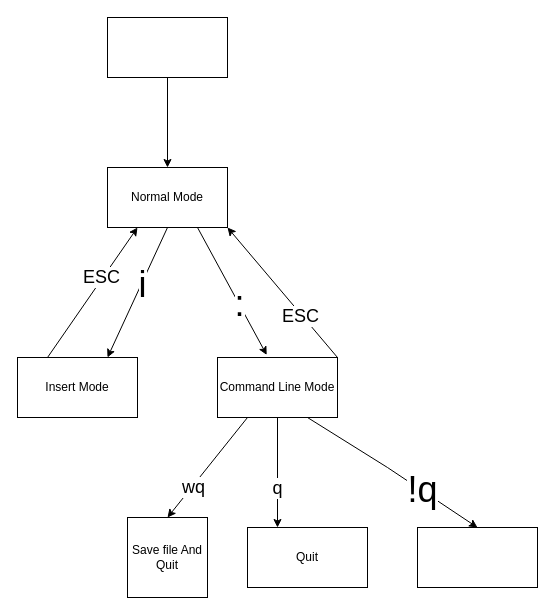
The diagram is 555 pixels wide and 615 high, and some of its shapes have lost their labels. The centre of each missing label's shape, as x and y in pixels:
Quit without save: [477,557]
vi a.txt: [167,47]
